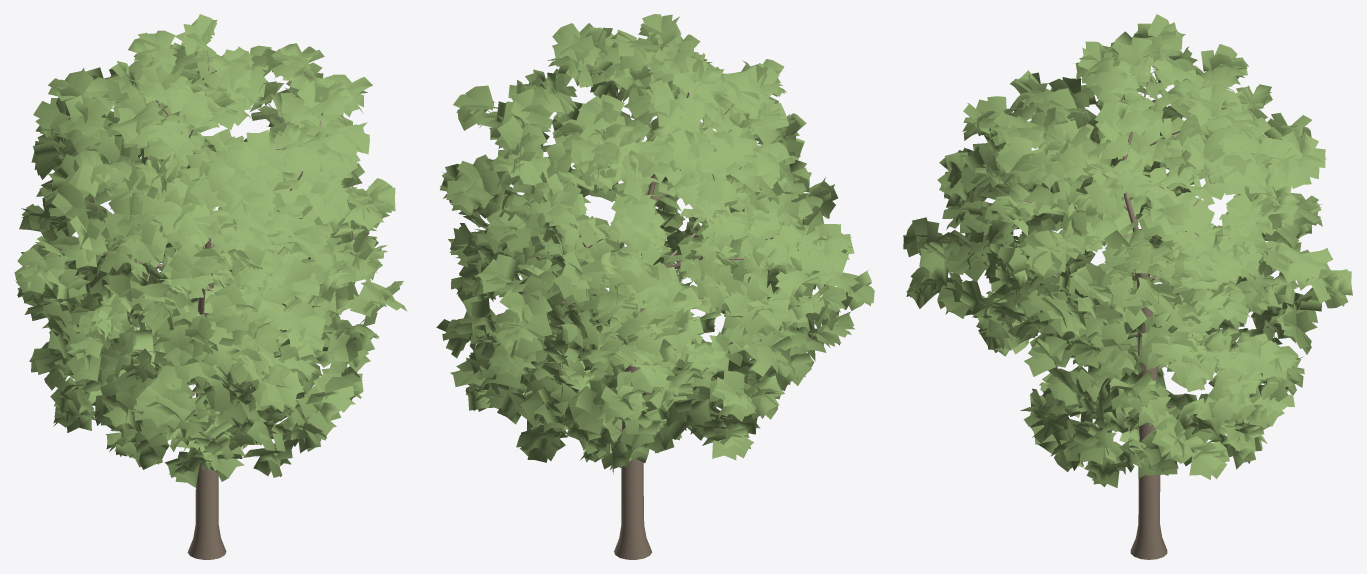
File: Maple_2_lod0.glb
3 views of the same model, side by side, from view 1: azimuth 30°, elevation 25°; view 2: azimuth 150°, elevation 25°; view 3: azimuth 270°, elevation 25° (orthographic). The views are drawn at different scales.
Parts seen in each view (by area): view 1: Maple_2_lod0; view 2: Maple_2_lod0; view 3: Maple_2_lod0.
Part boxes in pixels (left/top/right/bottom): Maple_2_lod0: left=14, top=14, right=407, bottom=559; Maple_2_lod0: left=436, top=14, right=874, bottom=559; Maple_2_lod0: left=903, top=14, right=1352, bottom=559.
Size of the model in its own units: 15.74 by 21.53 by 17.13.
